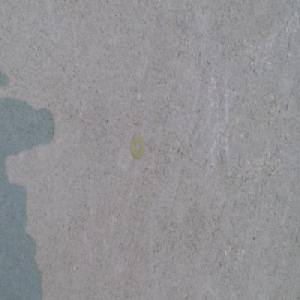Washer: (130, 135, 145, 160)
